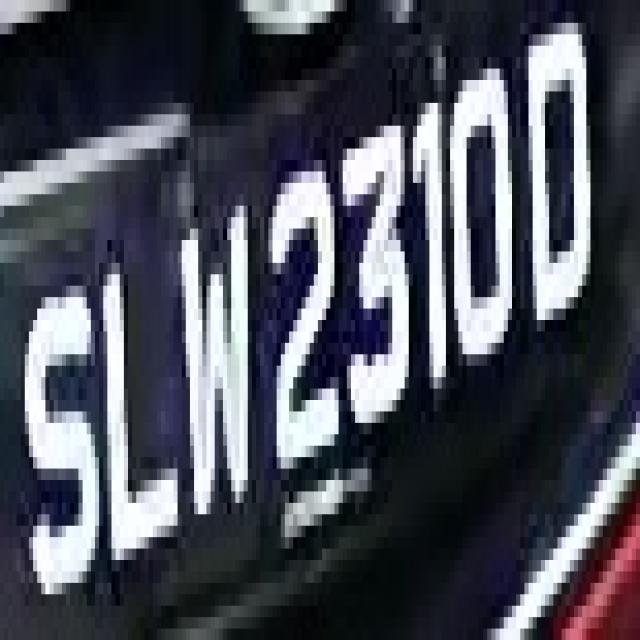0: (442, 57, 520, 412)
1: (409, 80, 462, 446)
2: (260, 160, 343, 514)
3: (342, 114, 408, 446)
D: (516, 23, 607, 354)
L: (103, 240, 186, 583)
S: (12, 252, 104, 628)
W: (170, 160, 268, 549)
